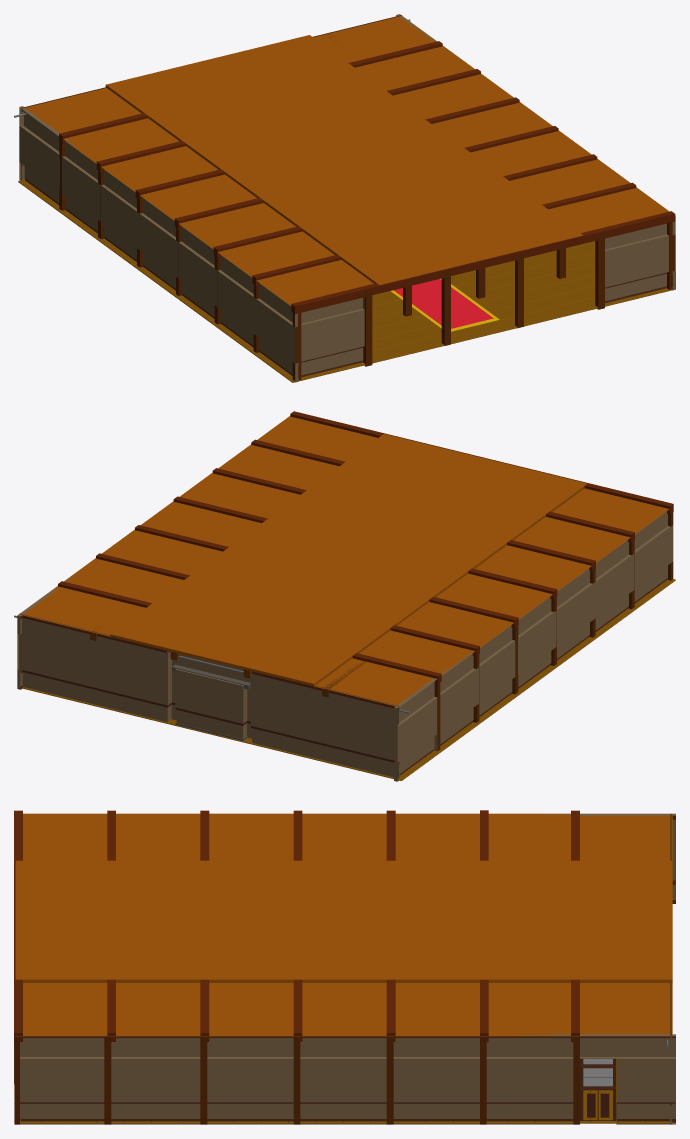
The model's file is Dojo Final.fbx.
3 views of the same model, one above another, from view 1: azimuth 30°, elevation 25°; view 2: azimuth 150°, elevation 25°; view 3: azimuth 270°, elevation 25° (orthographic). The views are drawn at different scales.
Parts seen in each view (by area): view 1: Roof, Walls, Floor, Timber 2, Pillars, Plane.005, Wall Line 1, Pillars.001, Pillars.002; view 2: Roof, Gate Wall, Walls, Timber 2, Floor, Pillars, Top Wall Decor, Bottom Wall Decor, Wall Line 1; view 3: Roof, Walls, Timber 2, Pillars, Wall Line 1, Floor, Inside Line 1, Door, Panels.
Boxes of the visible parts, <box> form: Roof: <box>25,16,669,305</box>; Walls: <box>19,14,675,382</box>; Floor: <box>18,180,672,382</box>; Timber 2: <box>59,41,675,313</box>; Pillars: <box>59,142,675,380</box>; Plane.005: <box>393,279,493,328</box>; Wall Line 1: <box>25,15,666,377</box>; Pillars.001: <box>595,232,604,309</box>; Pillars.002: <box>363,289,372,366</box>; Roof: <box>22,416,669,706</box>; Gate Wall: <box>19,618,399,778</box>; Walls: <box>17,511,673,781</box>; Timber 2: <box>58,411,673,683</box>; Floor: <box>22,579,675,780</box>; Pillars: <box>434,512,673,750</box>; Top Wall Decor: <box>19,613,399,709</box>; Bottom Wall Decor: <box>22,670,395,762</box>; Wall Line 1: <box>17,578,667,775</box>; Roof: <box>15,813,672,1036</box>; Walls: <box>14,813,675,1124</box>; Timber 2: <box>14,810,579,1042</box>; Pillars: <box>15,1036,579,1124</box>; Wall Line 1: <box>14,815,675,1122</box>; Floor: <box>14,1058,672,1123</box>; Inside Line 1: <box>14,882,675,1103</box>; Door: <box>580,1058,616,1120</box>; Panels: <box>583,1059,612,1086</box>.
Bounding box in the file's own units: 609 × 114 × 737.
